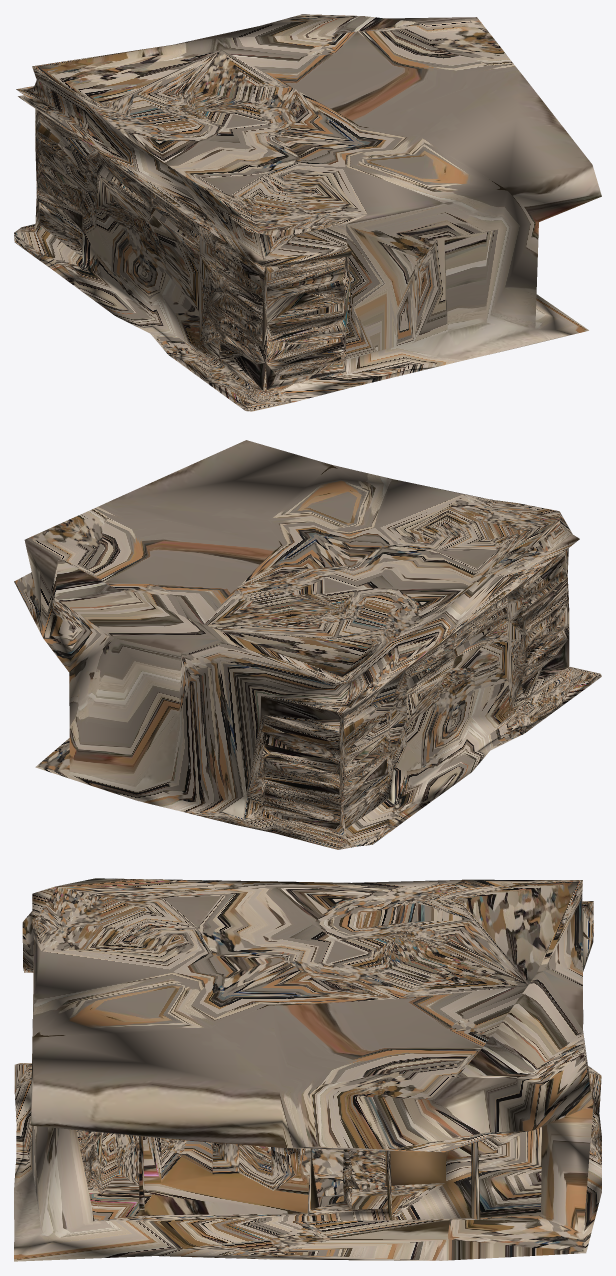
The model's file is grocery.glb.
3 views of the same model, one above another, from view 1: azimuth 30°, elevation 25°; view 2: azimuth 150°, elevation 25°; view 3: azimuth 270°, elevation 25° (orthographic). The views are drawn at different scales.
Visible parts, largest first — view 1: tripo_node_57da4709-1e7f-4f6c-8628-aeecd4d9f29b; view 2: tripo_node_57da4709-1e7f-4f6c-8628-aeecd4d9f29b; view 3: tripo_node_57da4709-1e7f-4f6c-8628-aeecd4d9f29b.
Part boxes in pixels (left/top/right/bottom): tripo_node_57da4709-1e7f-4f6c-8628-aeecd4d9f29b: left=14, top=14, right=601, bottom=411; tripo_node_57da4709-1e7f-4f6c-8628-aeecd4d9f29b: left=14, top=440, right=601, bottom=849; tripo_node_57da4709-1e7f-4f6c-8628-aeecd4d9f29b: left=14, top=878, right=601, bottom=1261.
Bounding box in the file's own units: 0.9614 × 0.3763 × 0.9991.
Materials: 1 (1 with a texture image).
